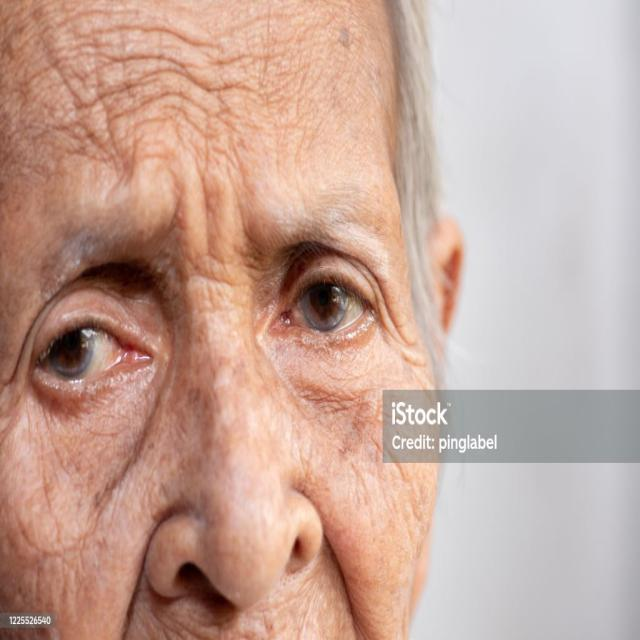dry: (30, 26, 302, 162), (20, 385, 162, 594), (304, 368, 442, 566), (211, 350, 304, 570)
